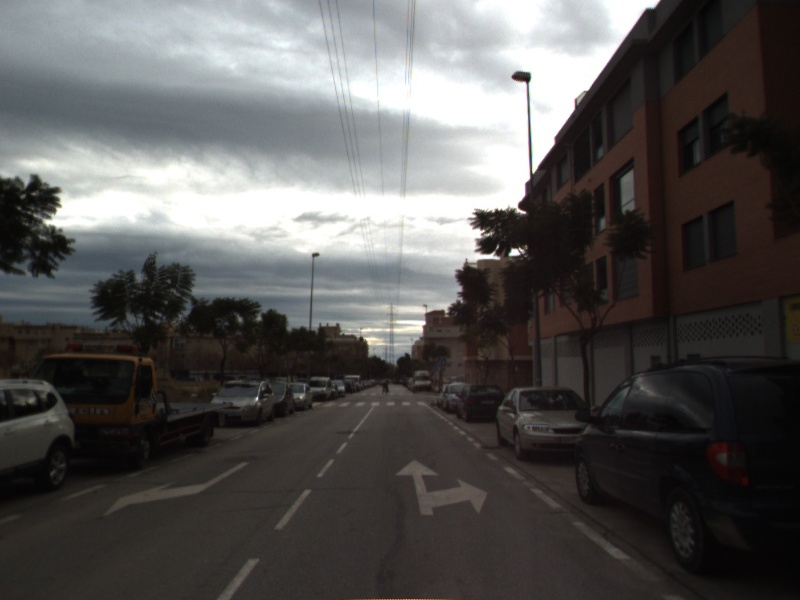STRAIGHT_RIGHT: (394, 457, 491, 517)
